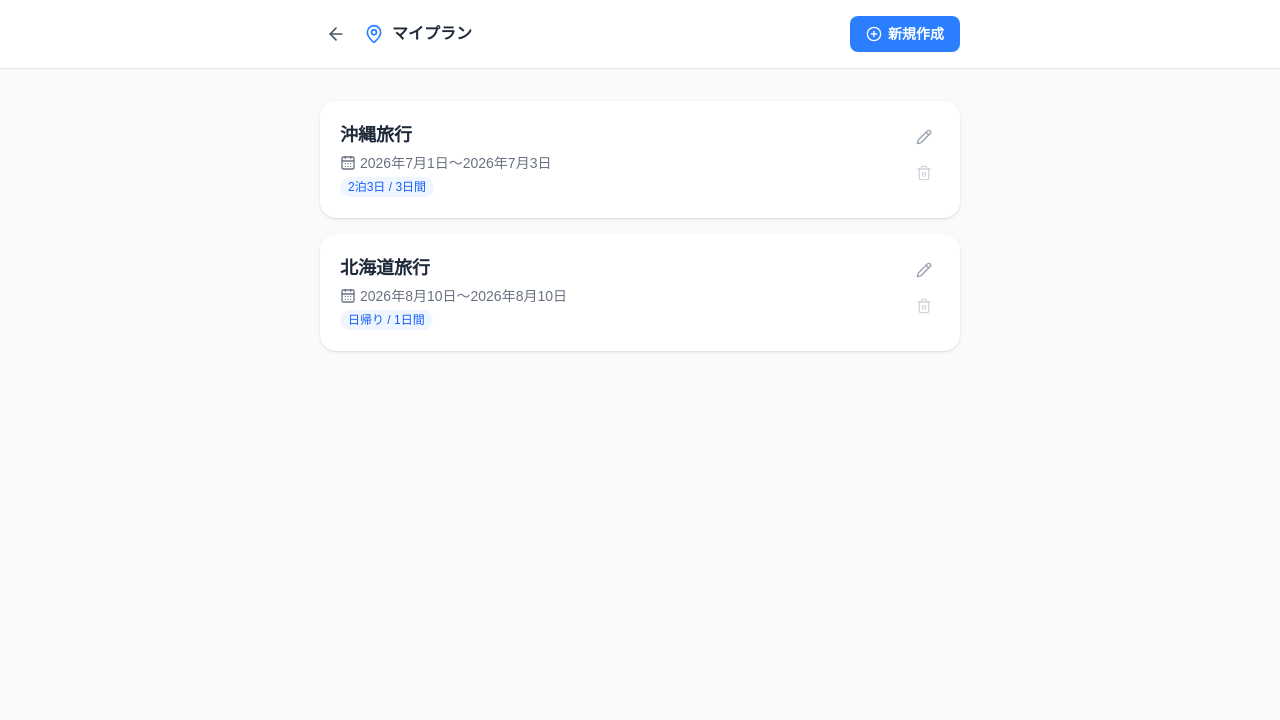
Test: MyPlansPage › 削除ボタンをクリックすると確認モーダルが表示される
Click the button named "削除" in the row of "2026年7月3日": (924, 173) 908,157 -> 940,189
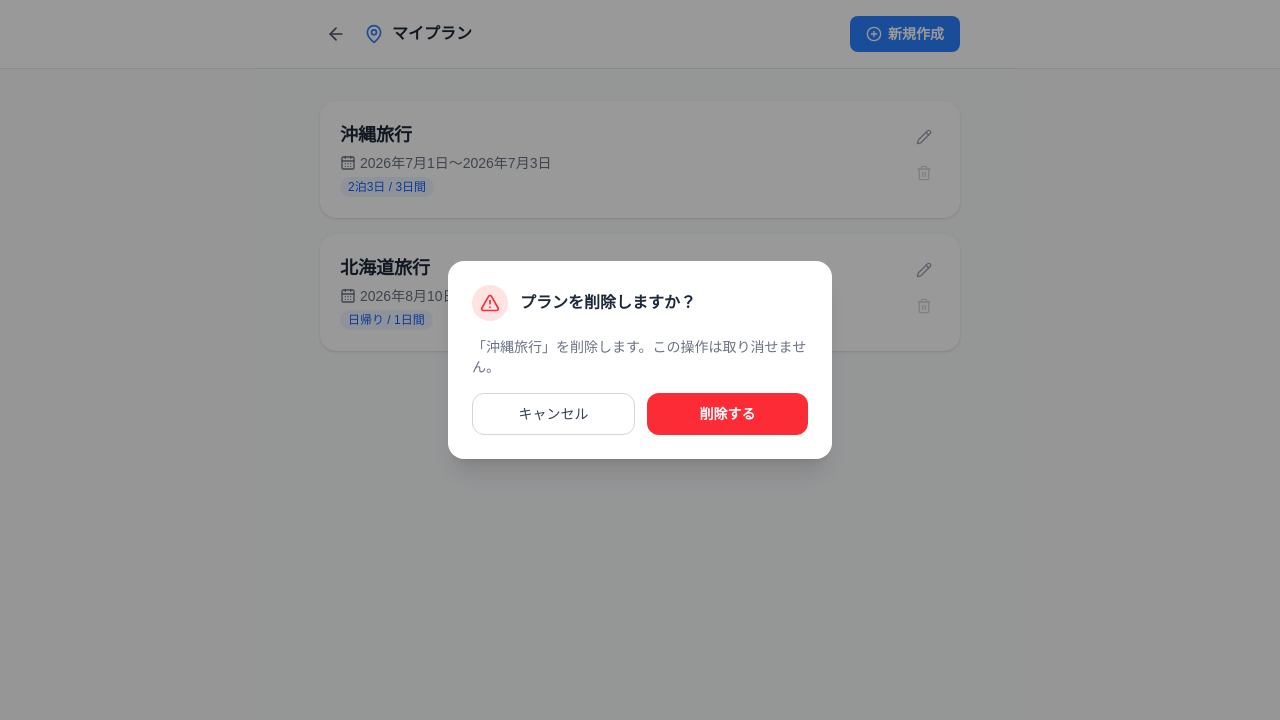
Expected: the heading "プランを削除しますか？" is shown, 520,291 -> 696,315
Expected: the text "「沖縄旅行」を削除します。この操作は取り消せません。" is shown, 472,337 -> 808,377
